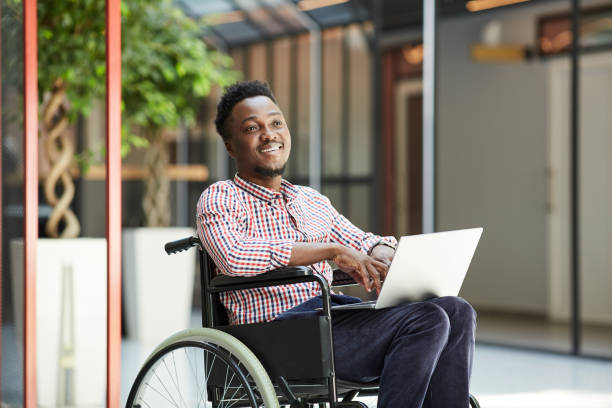wheel_chair: (81, 227, 535, 408)
